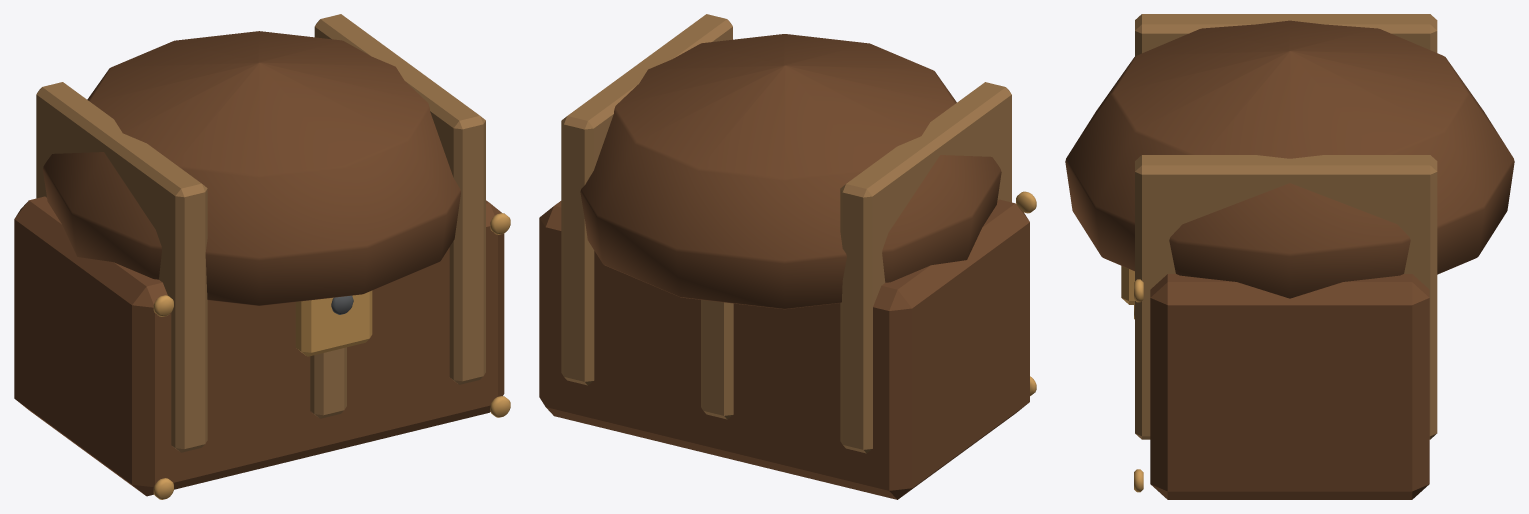
Rendered from treasure_chest.glb.
3 views of the same model, side by side, from view 1: azimuth 30°, elevation 25°; view 2: azimuth 150°, elevation 25°; view 3: azimuth 270°, elevation 25° (orthographic). The views are drawn at different scales.
Parts seen in each view (by area): view 1: CHEST__lid, CHEST__body, CHEST__band.001, CHEST__band, CHEST__lock, CHEST__band.002; view 2: CHEST__lid, CHEST__body, CHEST__band.001, CHEST__band, CHEST__band.002; view 3: CHEST__lid, CHEST__body, CHEST__band, CHEST__band.001.
Part boxes in pixels (bbox=[...]): CHEST__lid: bbox=[43, 31, 460, 305]; CHEST__body: bbox=[14, 196, 504, 496]; CHEST__band.001: bbox=[36, 82, 207, 452]; CHEST__band: bbox=[314, 14, 485, 384]; CHEST__lock: bbox=[295, 290, 372, 356]; CHEST__band.002: bbox=[310, 347, 346, 418]; CHEST__lid: bbox=[580, 34, 1001, 309]; CHEST__body: bbox=[539, 199, 1029, 499]; CHEST__band.001: bbox=[840, 82, 1011, 453]; CHEST__band: bbox=[561, 14, 732, 385]; CHEST__band.002: bbox=[701, 300, 733, 419]; CHEST__lid: bbox=[1065, 20, 1514, 298]; CHEST__body: bbox=[1150, 274, 1429, 499]; CHEST__band: bbox=[1135, 155, 1437, 439]; CHEST__band.001: bbox=[1135, 14, 1437, 56].
Bounding box in the file's own units: 1.16 × 1.03 × 1.16.
